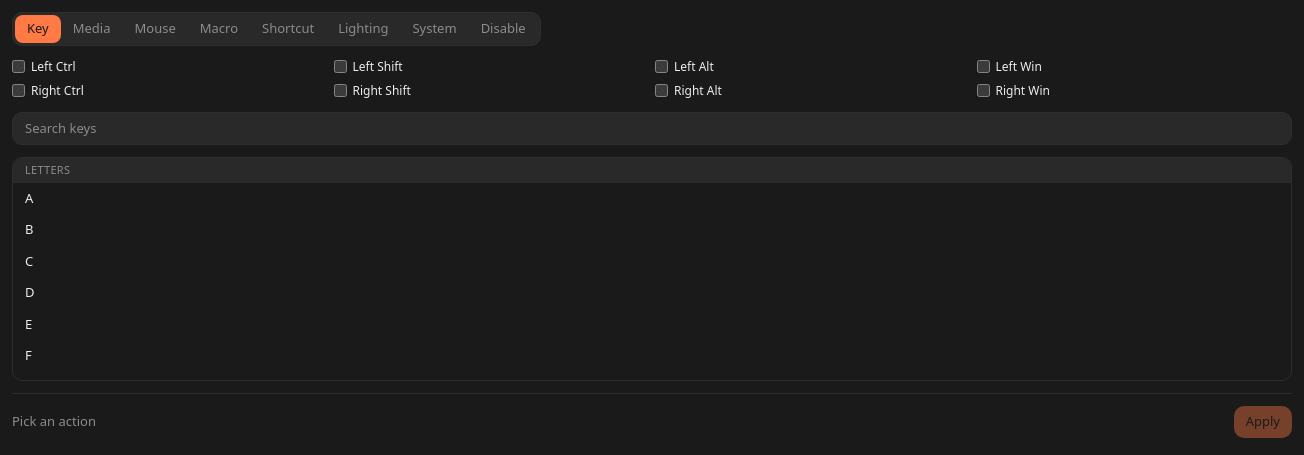
Test: dangerous system actions are not offered
Click the radio button labelled "System" at (434, 29), box [400,15,469,42]
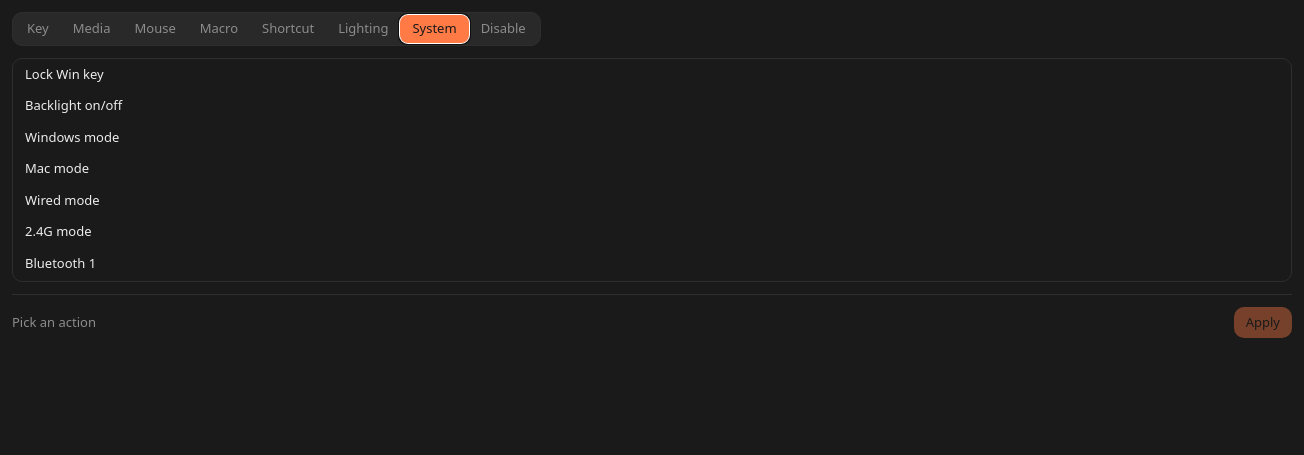
Expected: the radio button labelled "Mac mode" is shown, [13,153,1291,184]
